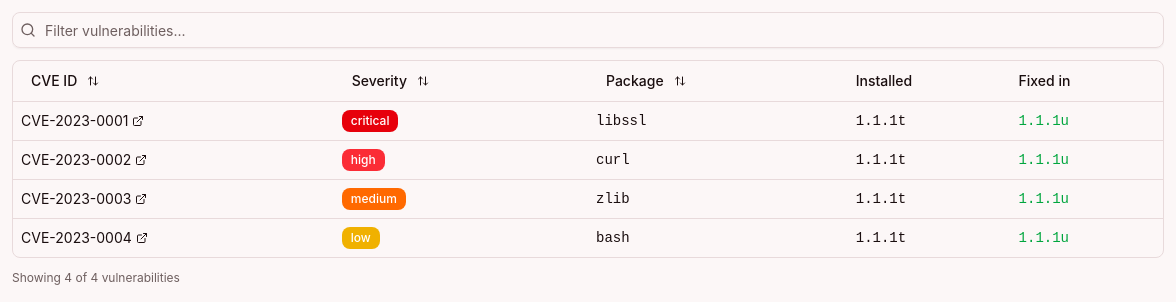
Test: ScanResultsTable › filters by package name when typing in search box
Type "curl" into the field with placeholder "Filter vulnerabilities..." at (588, 30), box [12,12,1164,48]
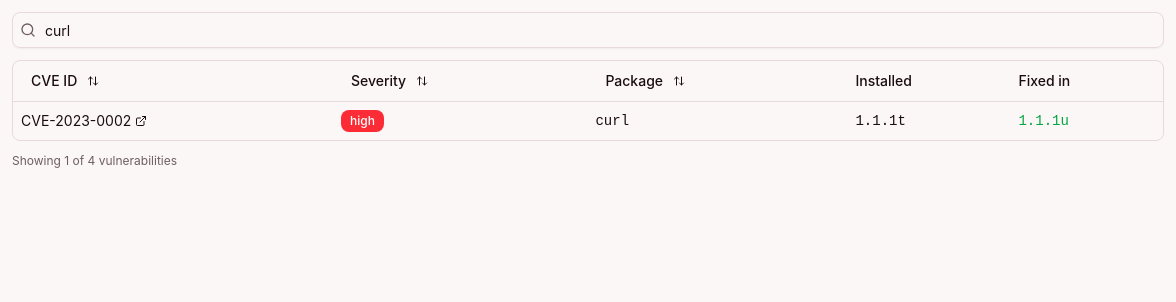
Expected: the link "CVE-2023-0002" is shown, [21,110,147,130]
Expected: the link "CVE-2023-0001" is gone
